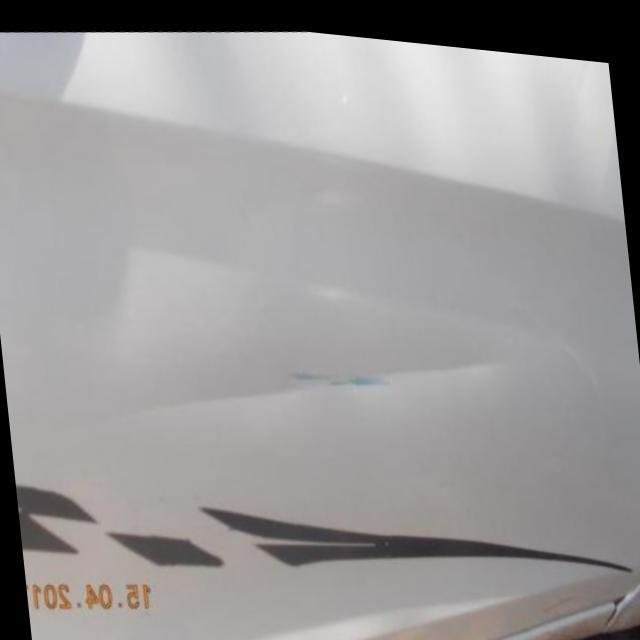dent: (50, 352, 508, 424)
scratch: (114, 231, 538, 329), (288, 364, 390, 380)
